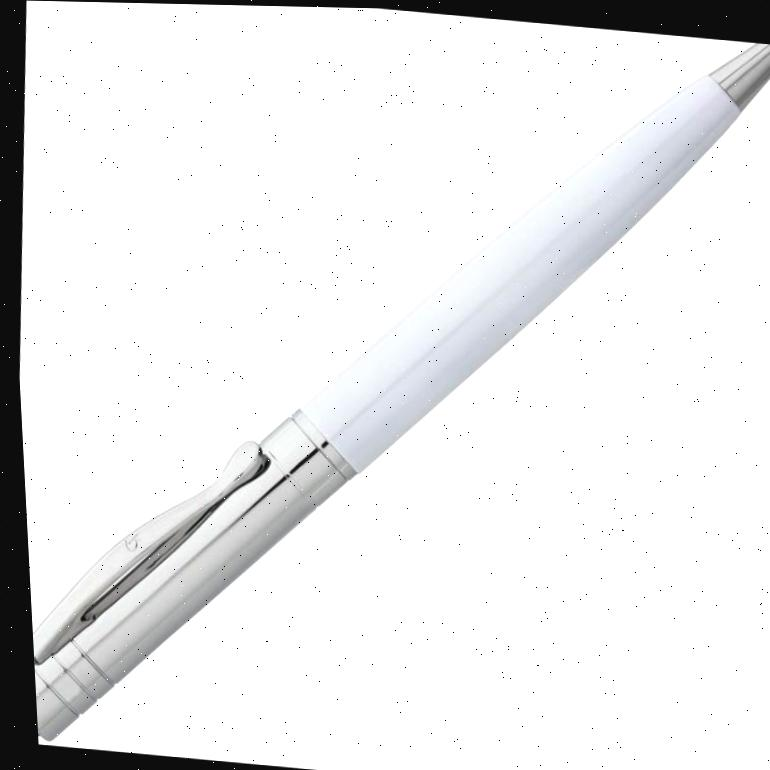pen-pencil: (33, 41, 770, 739)
